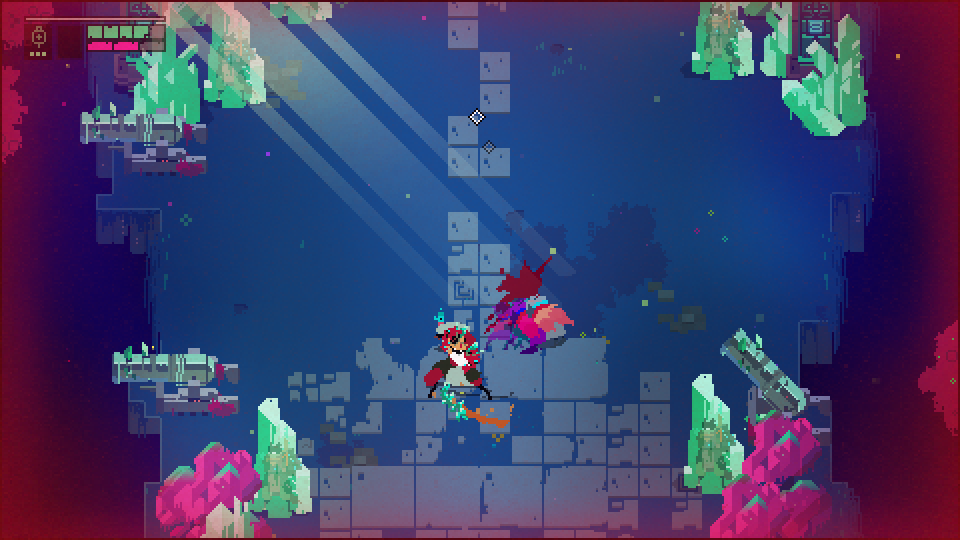hanged_man: (432, 319, 491, 425)
player: (520, 292, 575, 334)
